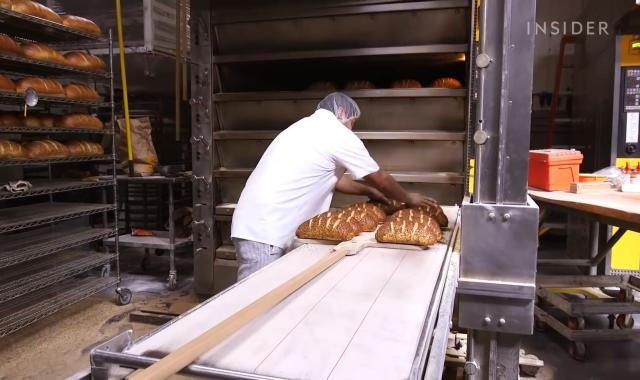hairnet: (316, 91, 363, 120)
